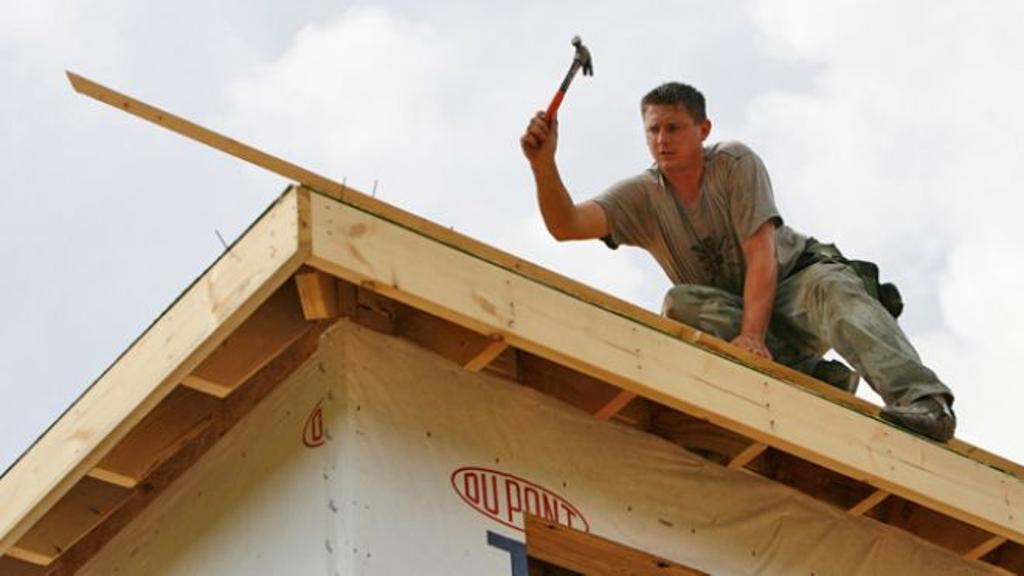face: (642, 98, 696, 174)
